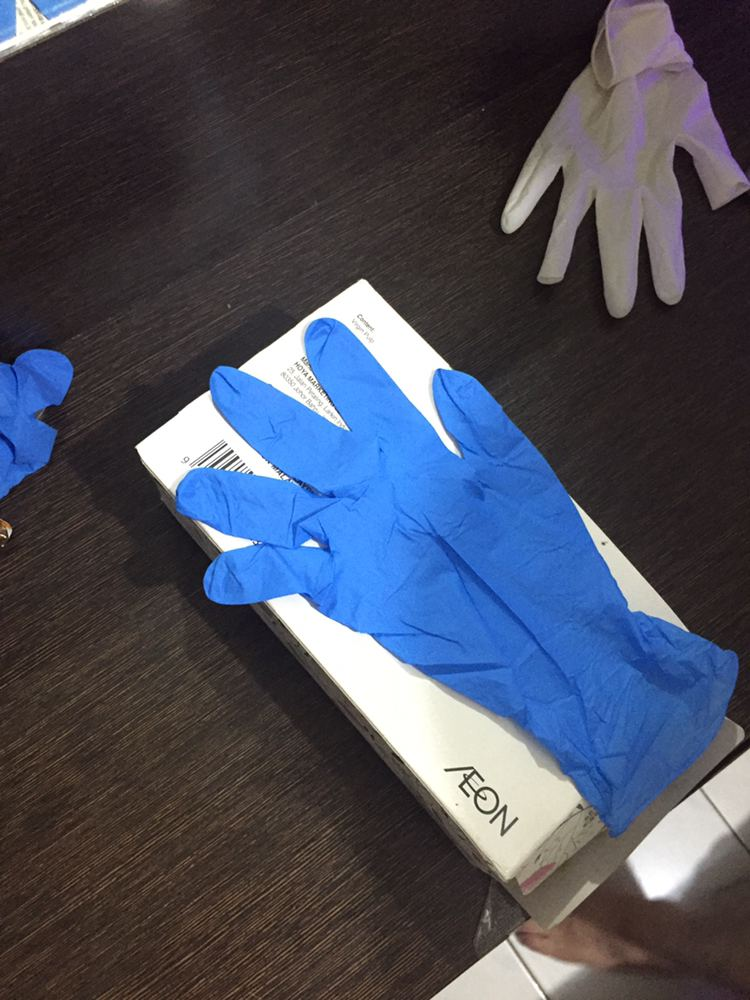glove: (148, 340, 750, 857)
